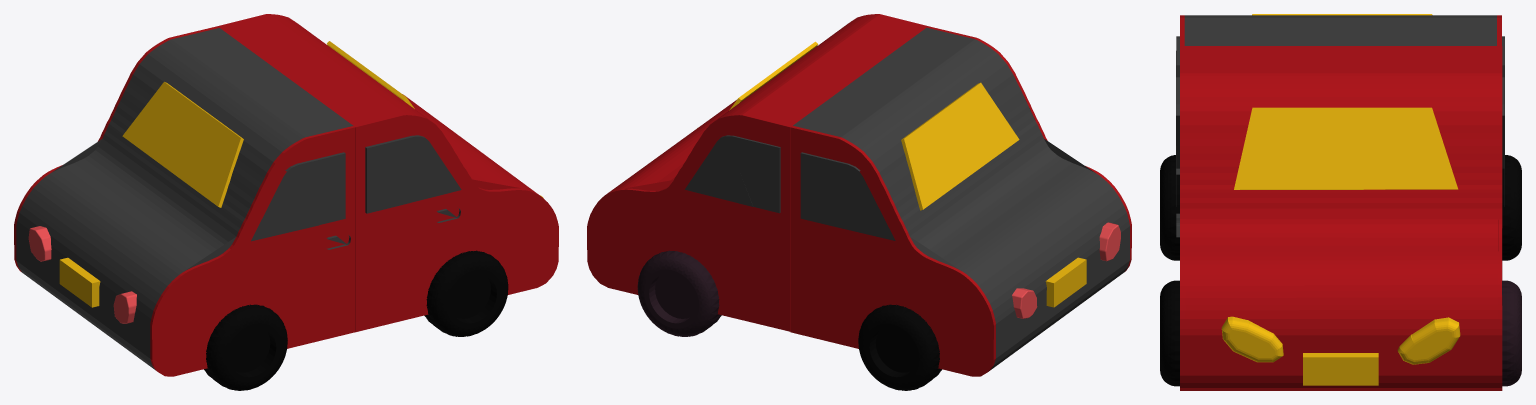
File: car_red.fbx
3 renders of one model, left to right at view 1: azimuth 30°, elevation 25°; view 2: azimuth 150°, elevation 25°; view 3: azimuth 270°, elevation 25°, orthographic. The views are drawn at different scales.
Parts seen in each view (by area): view 1: 큐브.003; view 2: 큐브.003; view 3: 큐브.003.
Boxes of the visible parts, x1,y1,x2,y2 form: 큐브.003: [14, 14, 558, 390]; 큐브.003: [587, 14, 1131, 390]; 큐브.003: [1160, 14, 1521, 390].
Size of the model in its own units: 502 by 266 by 320.
